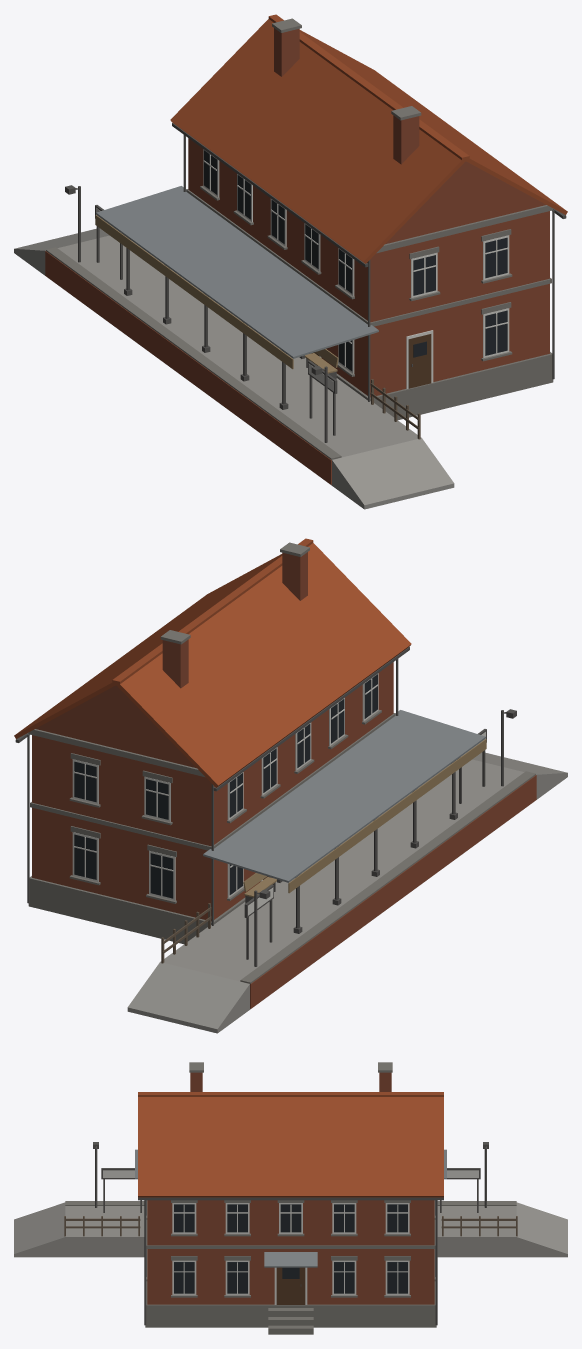
The model's file is Scenery_Station.fbx.
3 views of the same model, one above another, from view 1: azimuth 30°, elevation 25°; view 2: azimuth 150°, elevation 25°; view 3: azimuth 270°, elevation 25° (orthographic). The views are drawn at different scales.
Parts seen in each view (by area): view 1: Scenery_Station_Mesh; view 2: Scenery_Station_Mesh; view 3: Scenery_Station_Mesh.
Part boxes in pixels (box(x1,y1,x2,y2)): Scenery_Station_Mesh: box(14, 14, 567, 509); Scenery_Station_Mesh: box(14, 538, 567, 1033); Scenery_Station_Mesh: box(14, 1062, 567, 1334).
Size of the model in its own units: 13.32 by 11.68 by 27.
